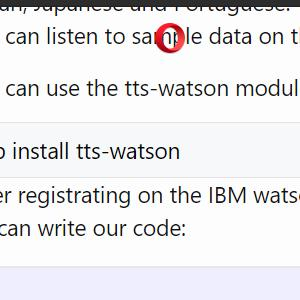opera: (155, 22, 185, 53)
